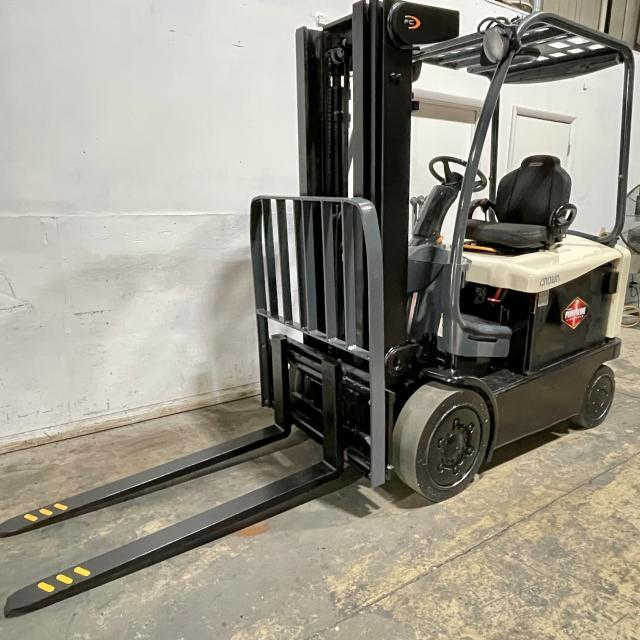forklift: (206, 12, 633, 512)
